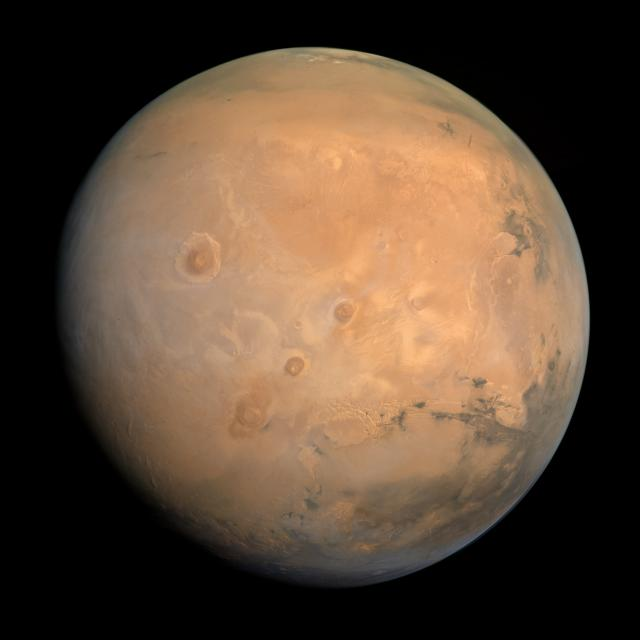Mars: (54, 45, 596, 592)
